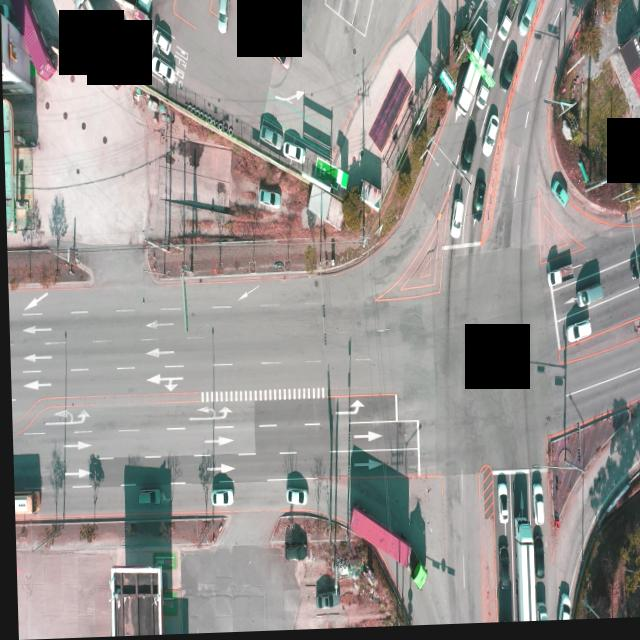car: (458, 123, 477, 175), (517, 0, 537, 40), (498, 53, 517, 94), (481, 119, 499, 161), (574, 287, 603, 313), (269, 16, 294, 46), (563, 323, 589, 348), (149, 56, 172, 84), (472, 174, 486, 220), (494, 539, 506, 591), (269, 42, 291, 70), (259, 125, 282, 150), (449, 202, 463, 242), (548, 182, 567, 211), (153, 28, 172, 57), (531, 538, 542, 583), (281, 144, 303, 166), (529, 485, 540, 526), (134, 487, 159, 505), (216, 0, 229, 34), (259, 190, 281, 210), (495, 488, 506, 528), (280, 546, 303, 564), (552, 597, 567, 624), (312, 593, 332, 611), (208, 490, 230, 506), (284, 489, 304, 506), (628, 258, 640, 283)
large_bus: (11, 489, 39, 516)
large_truck: (344, 512, 424, 594)
medium_truck: (76, 0, 120, 89), (451, 35, 487, 118), (512, 527, 530, 625)
small_truck: (495, 3, 516, 47), (475, 65, 493, 113), (545, 268, 571, 291), (532, 604, 544, 625)
